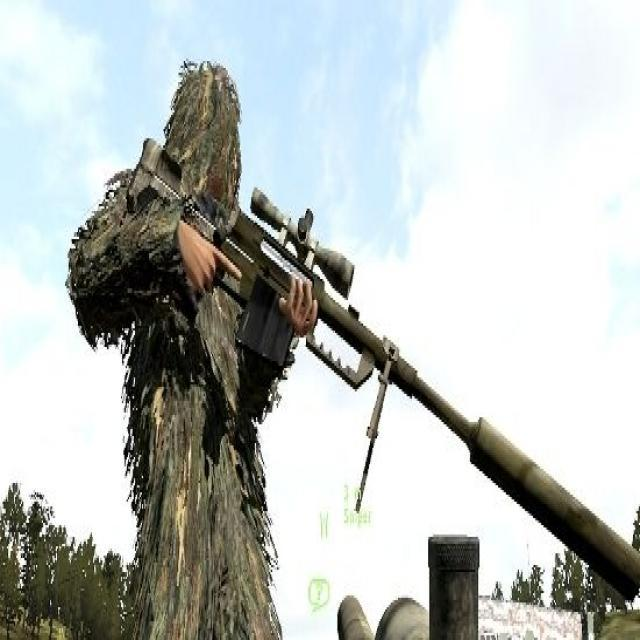rifle: (122, 131, 640, 606)
